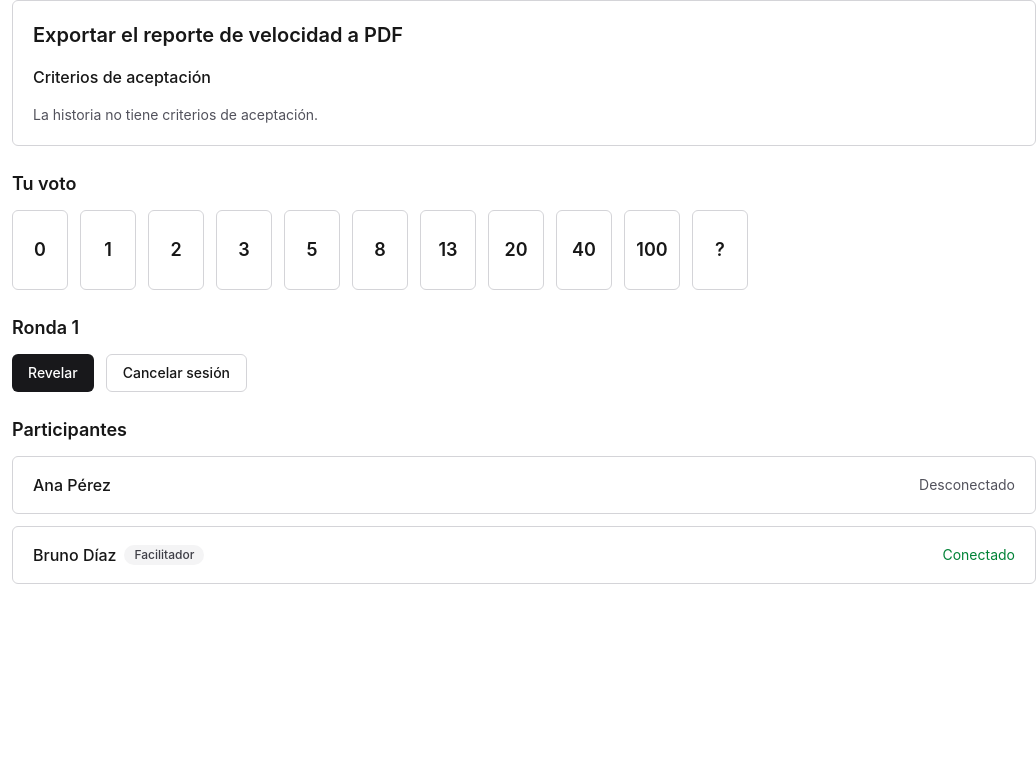
Test: 005/US7 - Cancelar una sesión sin registrar estimación › muestra en el aviso de la ronda el motivo de una cancelación rechazada
Expected: the heading "Participantes" is shown, [12, 419, 127, 440]
Click the button "Cancelar sesión" at (176, 373), box [106, 354, 247, 392]
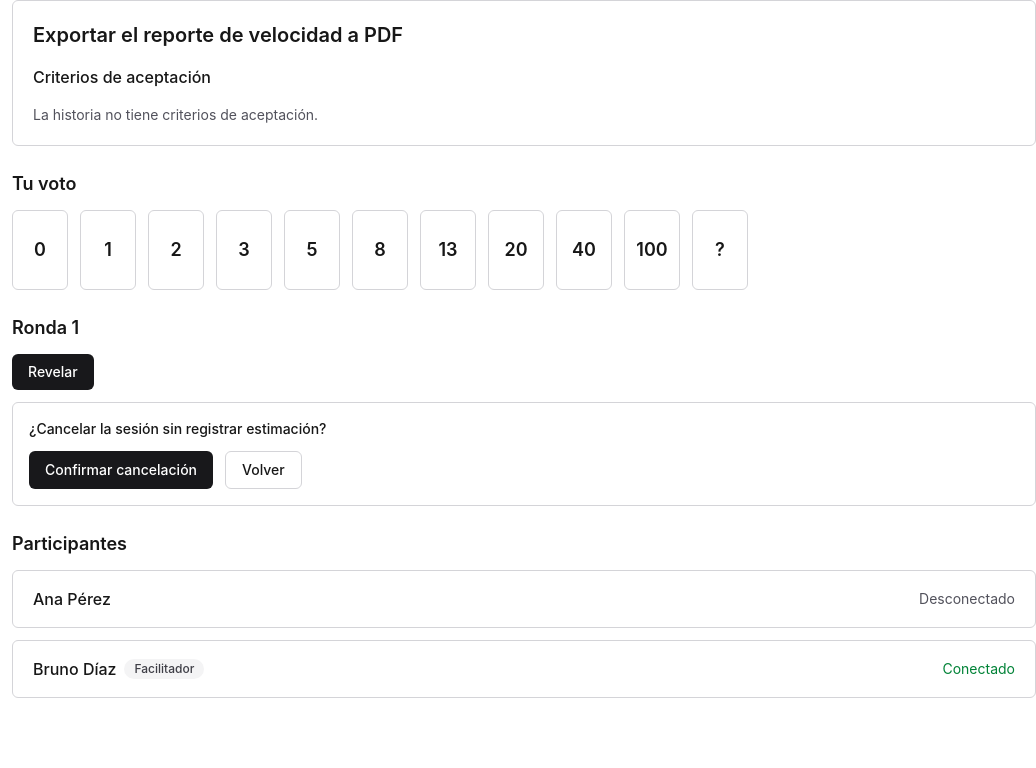
Click the button "Confirmar cancelación" at (121, 470), box [29, 451, 213, 489]
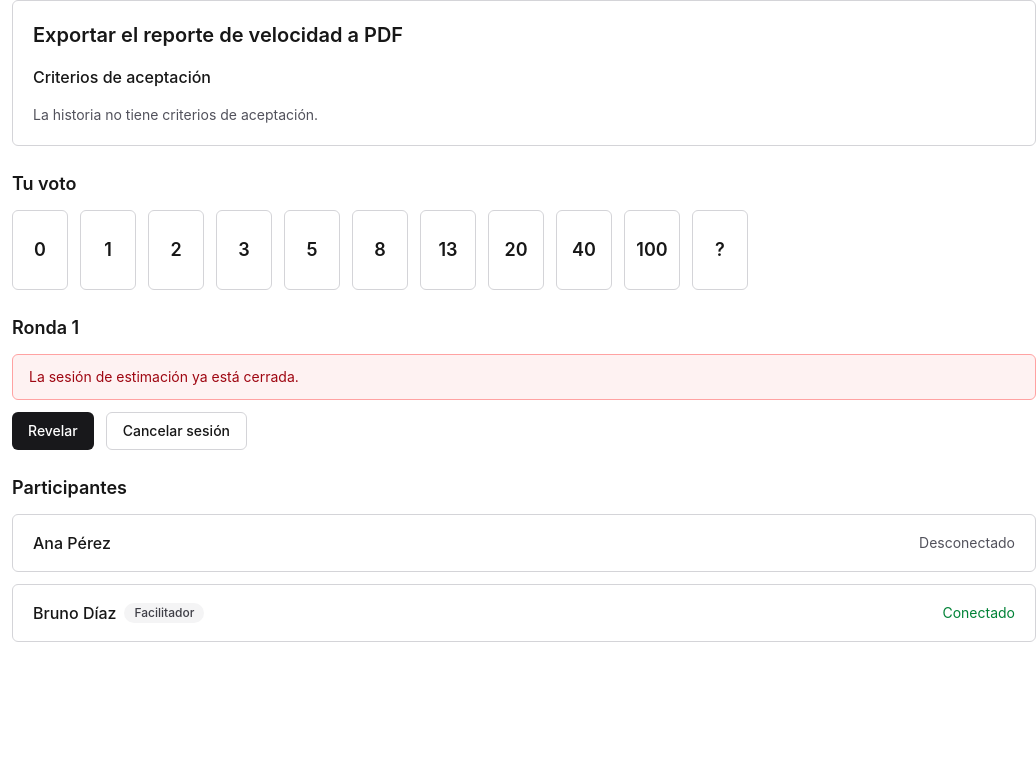
Expected: the message reads "La sesión de estimación ya está cerrada.", [29, 368, 299, 385]
